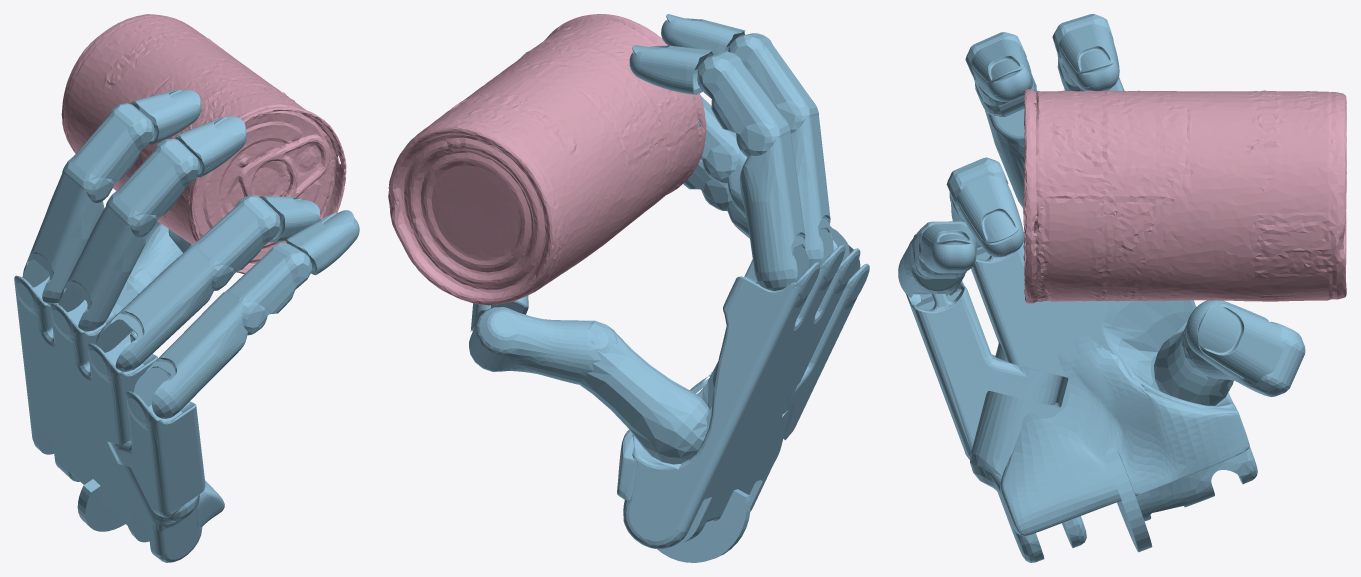
The picture shows the model from 3 angles, left to right: view 1: azimuth 30°, elevation 25°; view 2: azimuth 150°, elevation 25°; view 3: azimuth 270°, elevation 25°; orthographic projection. The views are drawn at different scales.
Visible parts, largest first — view 1: world; view 2: world; view 3: world.
Boxes of the visible parts, x1=… form: world: x1=14, y1=14, x2=359, y2=562; world: x1=388, y1=14, x2=869, y2=562; world: x1=898, y1=14, x2=1346, y2=562.
Size of the model in its own units: 0.1263 by 0.1841 by 0.1413.
